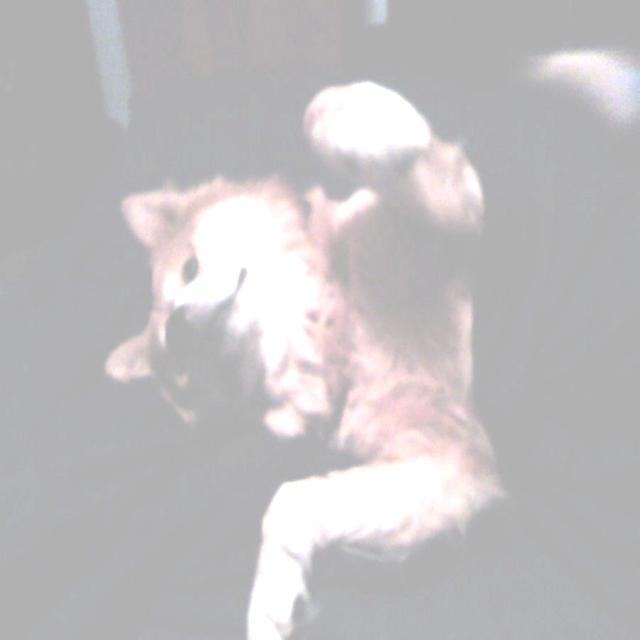Dog: (78, 43, 534, 640)
